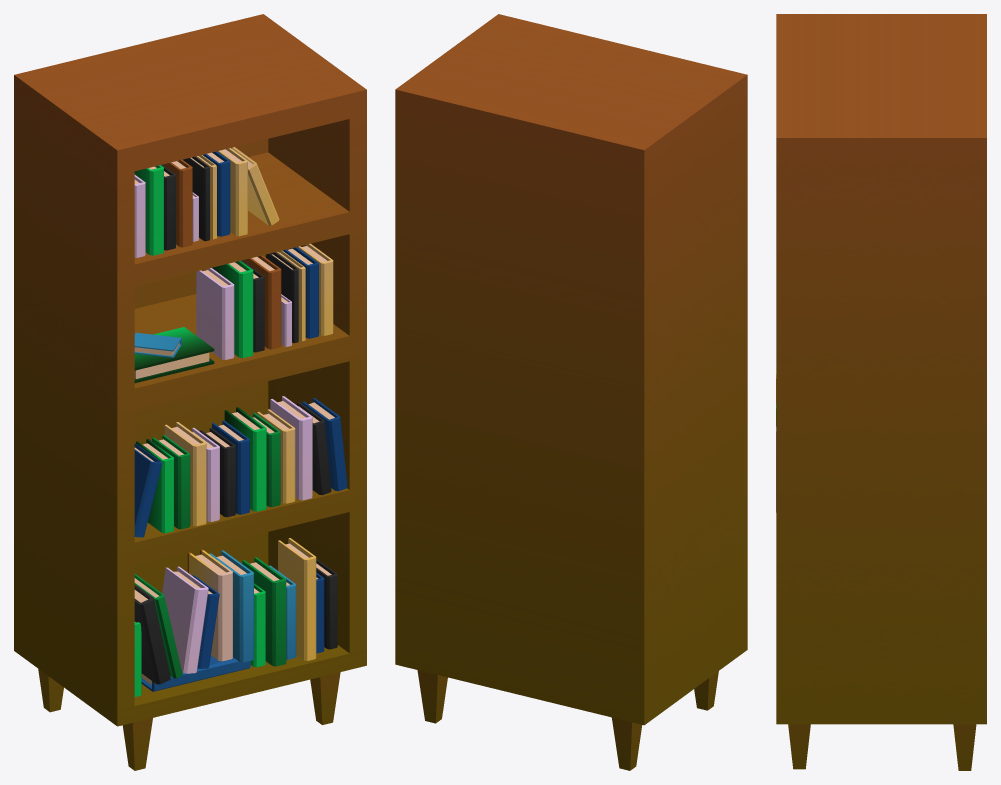
The model's file is Bookshelf.fbx.
3 renders of one model, left to right at view 1: azimuth 30°, elevation 25°; view 2: azimuth 150°, elevation 25°; view 3: azimuth 270°, elevation 25°, orthographic.
Parts seen in each view (by area): view 1: Bookshelf; view 2: Bookshelf; view 3: Bookshelf.
Part boxes in pixels (x1=…): Bookshelf: x1=14, y1=14, x2=366, y2=770; Bookshelf: x1=395, y1=14, x2=747, y2=770; Bookshelf: x1=776, y1=14, x2=986, y2=770.
Size of the model in its own units: 1 by 2.42 by 0.7187.
